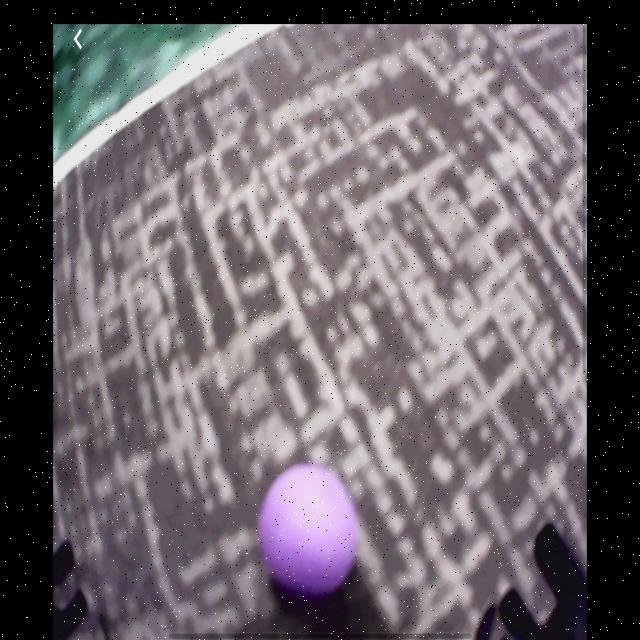ball: (259, 461, 359, 599)
